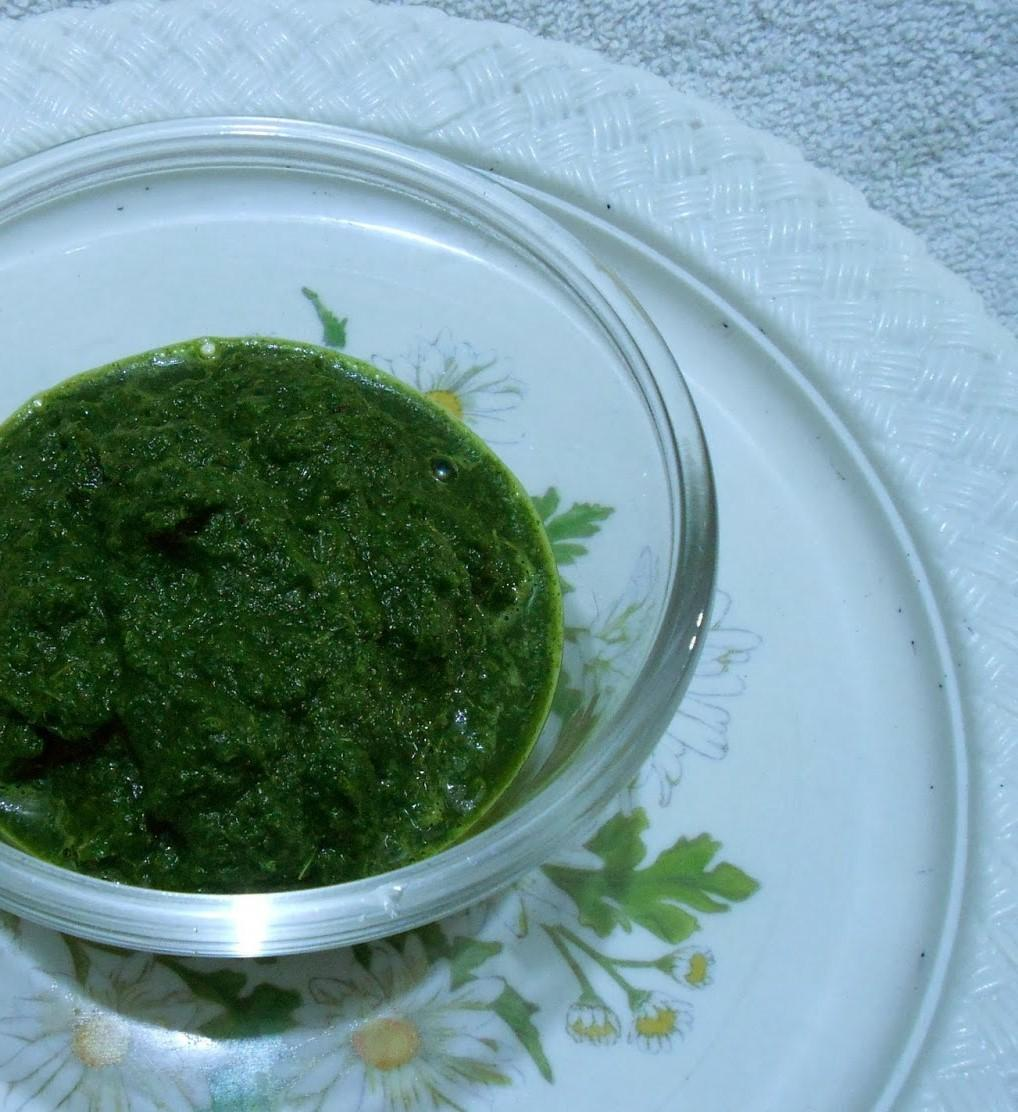GreenChutney: (0, 335, 557, 892)
